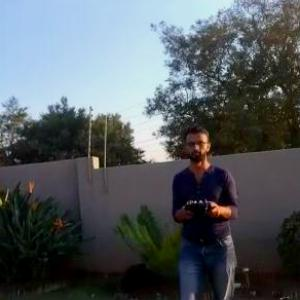follow: (164, 120, 240, 299)
